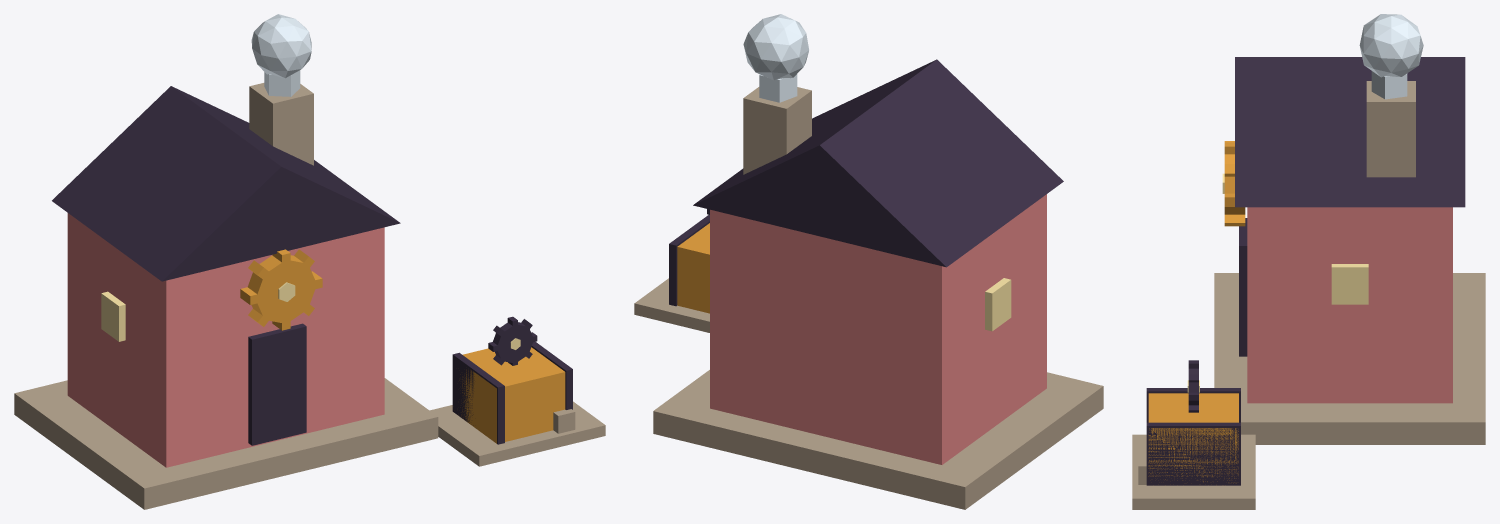
File: factory-landmark-s2.glb
The picture shows the model from 3 angles, left to right: view 1: azimuth 30°, elevation 25°; view 2: azimuth 150°, elevation 25°; view 3: azimuth 270°, elevation 25°; orthographic projection. The views are drawn at different scales.
Visible parts, largest first — view 1: factory-landmark-s2; view 2: factory-landmark-s2; view 3: factory-landmark-s2.
Boxes of the visible parts, box(x1,y1,x2,y2) form: factory-landmark-s2: box(14, 14, 605, 509); factory-landmark-s2: box(634, 14, 1103, 509); factory-landmark-s2: box(1132, 14, 1485, 509).
Bounding box in the file's own units: 1.24 × 1.05 × 0.86.
